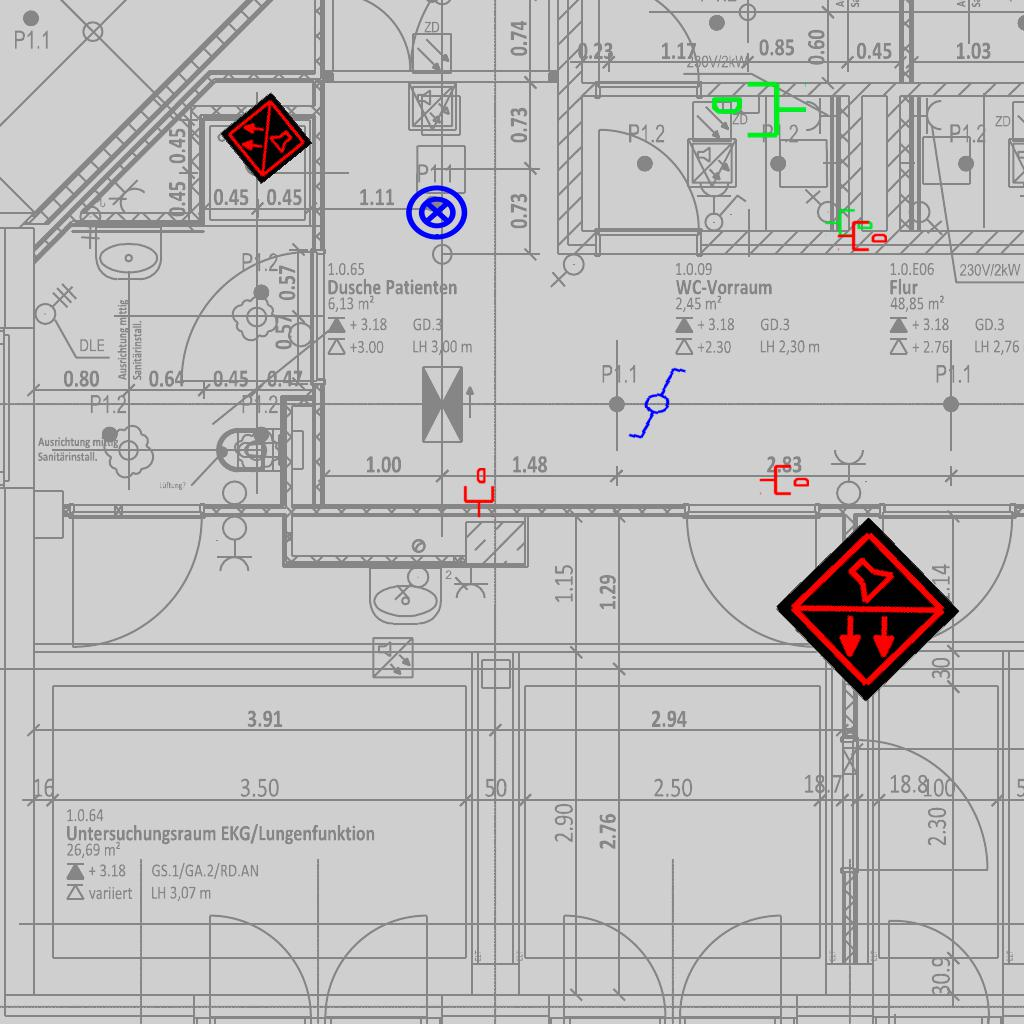Datenanschluss_einfach: (709, 77, 809, 146), (824, 205, 874, 239), (462, 468, 496, 518), (759, 463, 809, 497), (837, 219, 887, 253)
OKW_Multisensormelder_(Kombination_optischer_Rauch-Kahlenmonoxid_Waerme-Melder): (773, 516, 961, 704), (219, 91, 313, 185)
Taster_beleuchtet: (404, 179, 470, 245)
Wechselschalter: (609, 362, 697, 444)
